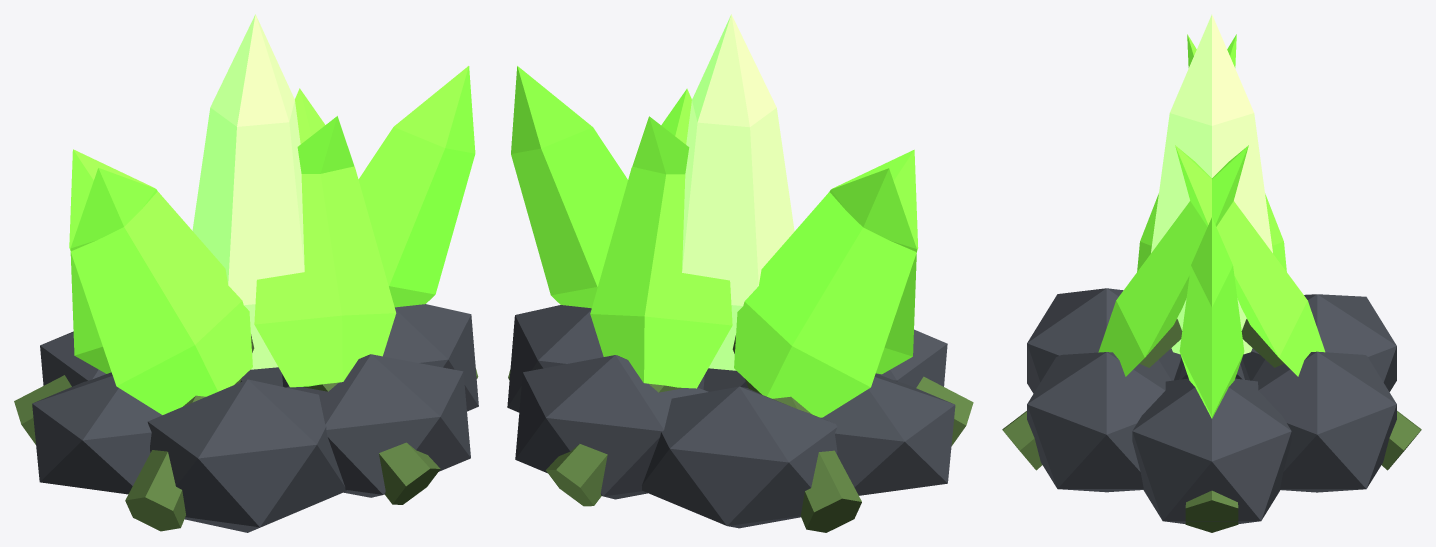
Rendered from nature_crystal_node.fbx.
3 renders of one model, left to right at view 1: azimuth 30°, elevation 25°; view 2: azimuth 150°, elevation 25°; view 3: azimuth 270°, elevation 25°, orthographic. The views are drawn at different scales.
Visible parts, largest first — view 1: Nature_Crystal.002, Nature_Bedrock.002, Nature_Glow.002, Nature_Accent.002; view 2: Nature_Crystal.002, Nature_Bedrock.002, Nature_Glow.002, Nature_Accent.002; view 3: Nature_Bedrock.002, Nature_Crystal.002, Nature_Glow.002, Nature_Accent.002.
Boxes of the visible parts, x1,y1,x2,y2 form: Nature_Crystal.002: (69,66,475,414); Nature_Bedrock.002: (32,304,478,532); Nature_Glow.002: (192,14,304,369); Nature_Accent.002: (14,334,478,531); Nature_Crystal.002: (511,66,918,417); Nature_Bedrock.002: (507,305,955,528); Nature_Glow.002: (682,14,794,370); Nature_Accent.002: (508,335,973,532); Nature_Bedrock.002: (1027,288,1396,523); Nature_Crystal.002: (1098,34,1325,418); Nature_Glow.002: (1151,14,1272,354); Nature_Accent.002: (1002,319,1421,532).
Size of the model in its own units: 194 by 198 by 166.
